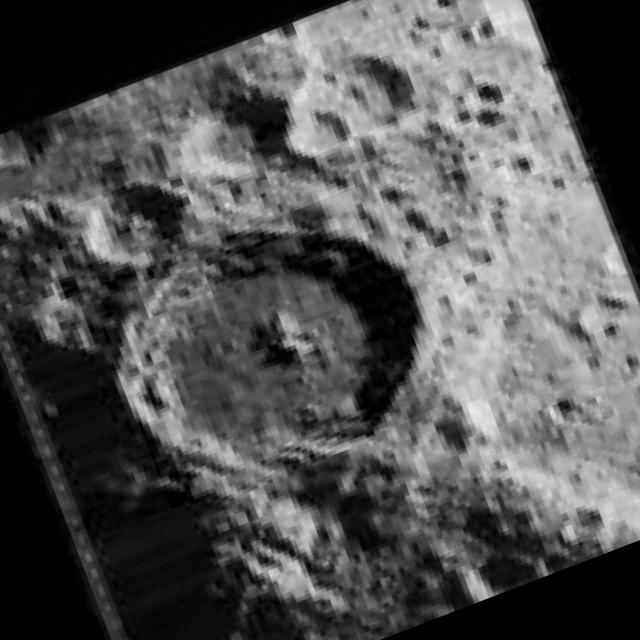crater: (87, 180, 456, 510)
